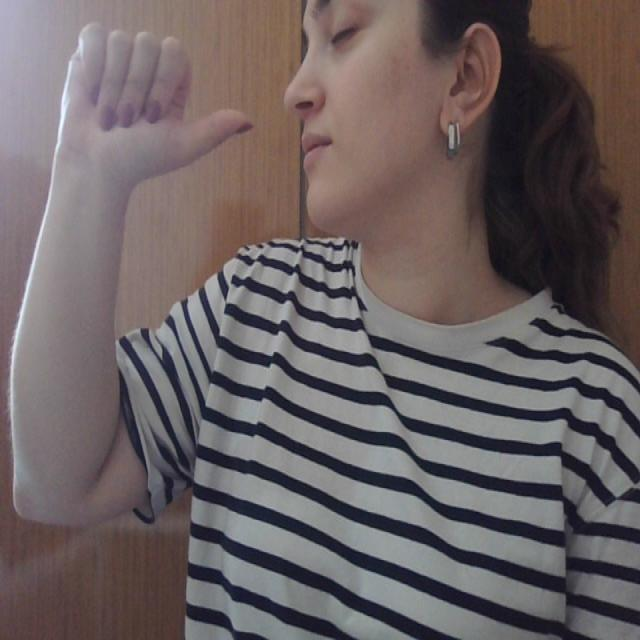icmek: (38, 10, 368, 186)
